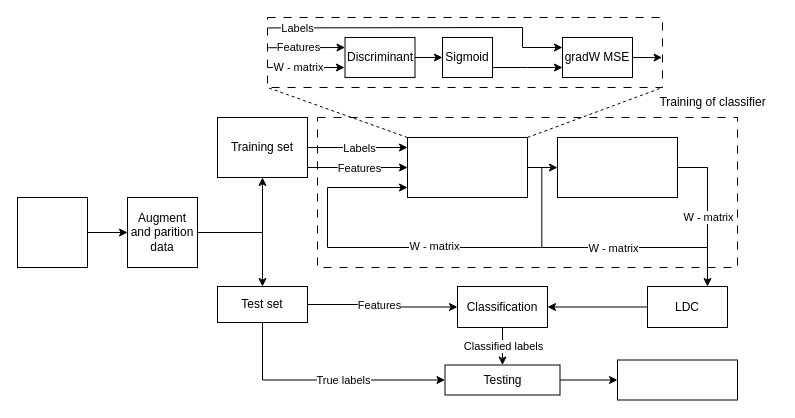
This 795x418 diagram has some shape labels left out. Each missing label, with the box of its shape:
"steepest decent" step for W: (556, 136, 678, 198)
Compute grad W MSE: (406, 136, 528, 198)
Confusion matrix and estimated error rate: (616, 359, 738, 400)
Dataset: (16, 196, 88, 268)
